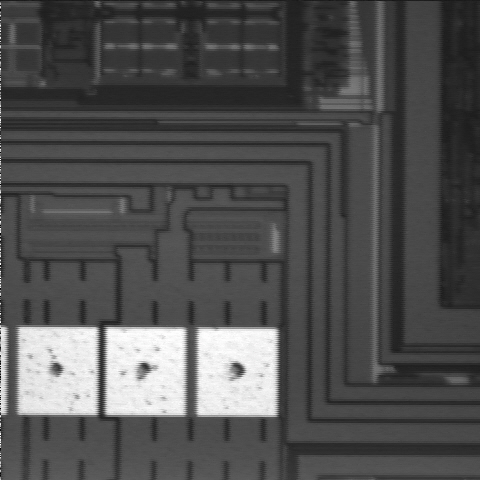pad: (106, 327, 186, 415), (197, 329, 277, 417), (19, 327, 97, 415)
